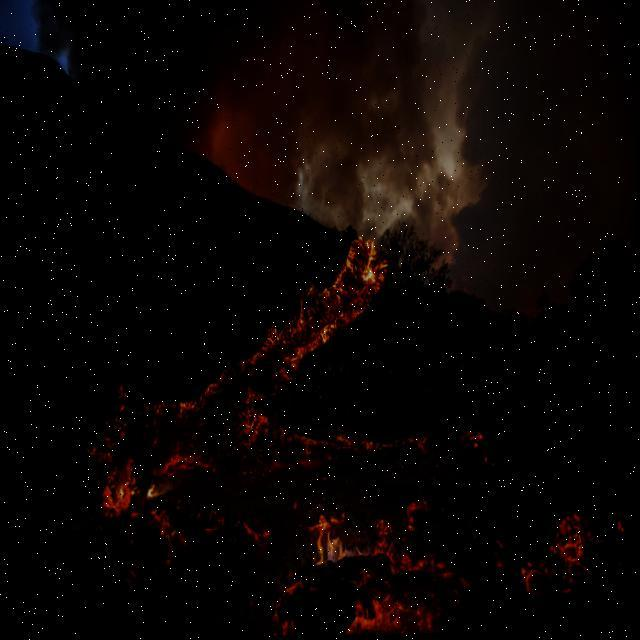Fire: (104, 236, 392, 508), (301, 513, 594, 634)
